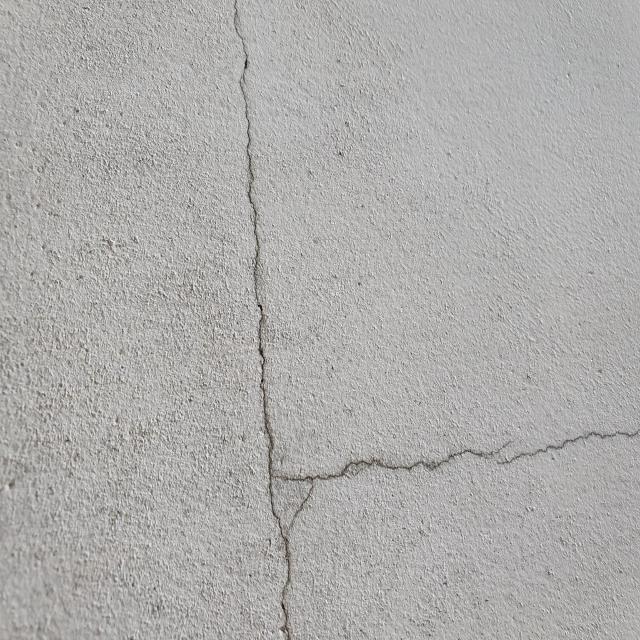SurfaceCrack: (197, 1, 336, 640)
